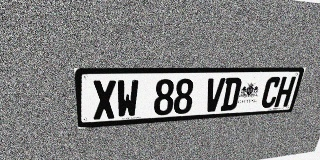8: (153, 79, 176, 116), (173, 78, 195, 114)
C: (260, 77, 282, 108)
D: (220, 78, 243, 111)
H: (274, 77, 296, 107)
V: (203, 78, 226, 112)
W: (117, 80, 139, 118)
X: (92, 80, 116, 120)
